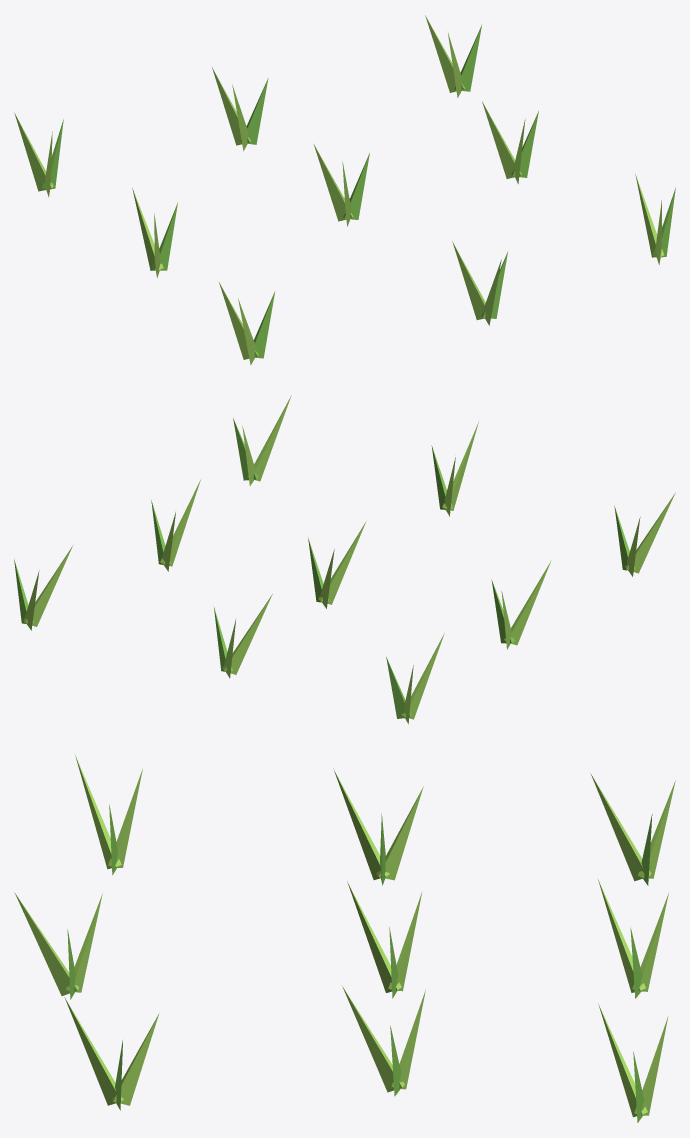
File: carrot-1.glb
The picture shows the model from 3 angles, top to bottom: view 1: azimuth 30°, elevation 25°; view 2: azimuth 150°, elevation 25°; view 3: azimuth 270°, elevation 25°; orthographic projection. The views are drawn at different scales.
Parts seen in each view (by area): view 1: carrot-1; view 2: carrot-1; view 3: carrot-1.
Part boxes in pixels (x1,y1,x2,y2): carrot-1: [14, 15, 675, 364]; carrot-1: [14, 395, 675, 724]; carrot-1: [14, 755, 675, 1122].
Bounding box in the file's own units: 0.5993 × 0.1013 × 0.604.
1 material, 1 textured.
